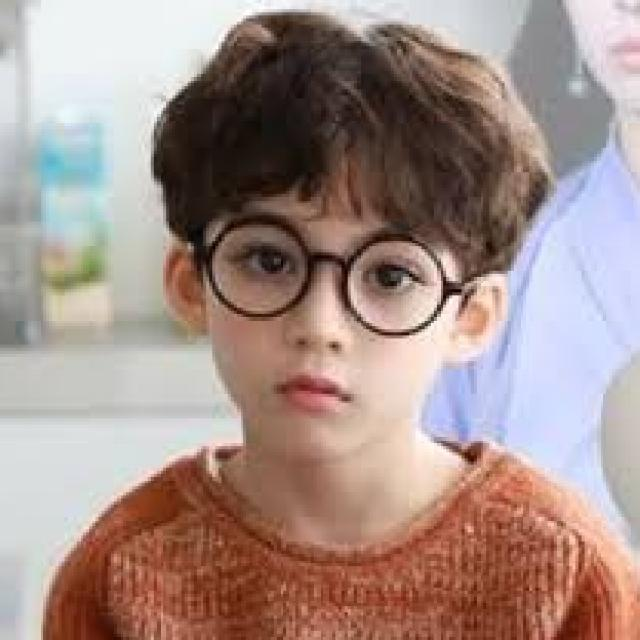Glasses: (194, 206, 474, 342)
